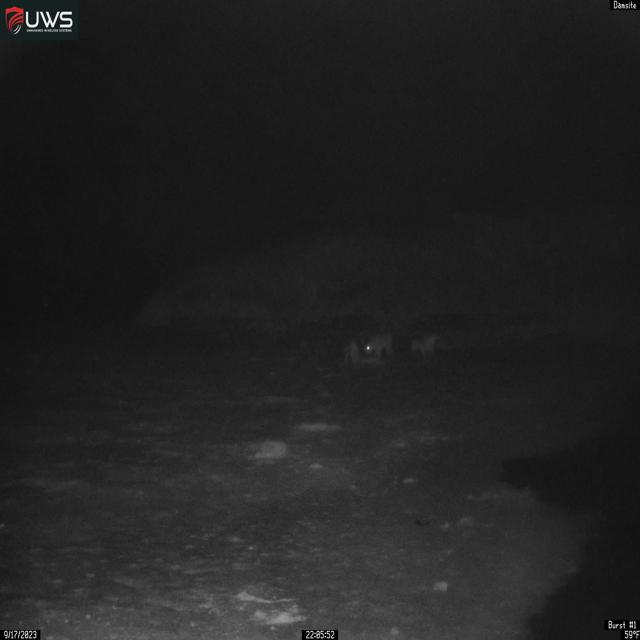coyote: (363, 331, 395, 361)
